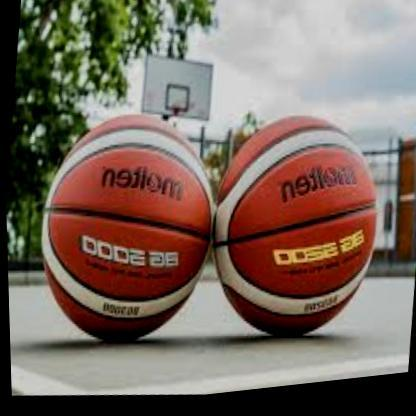basketball: (26, 101, 225, 353), (199, 106, 388, 351)
